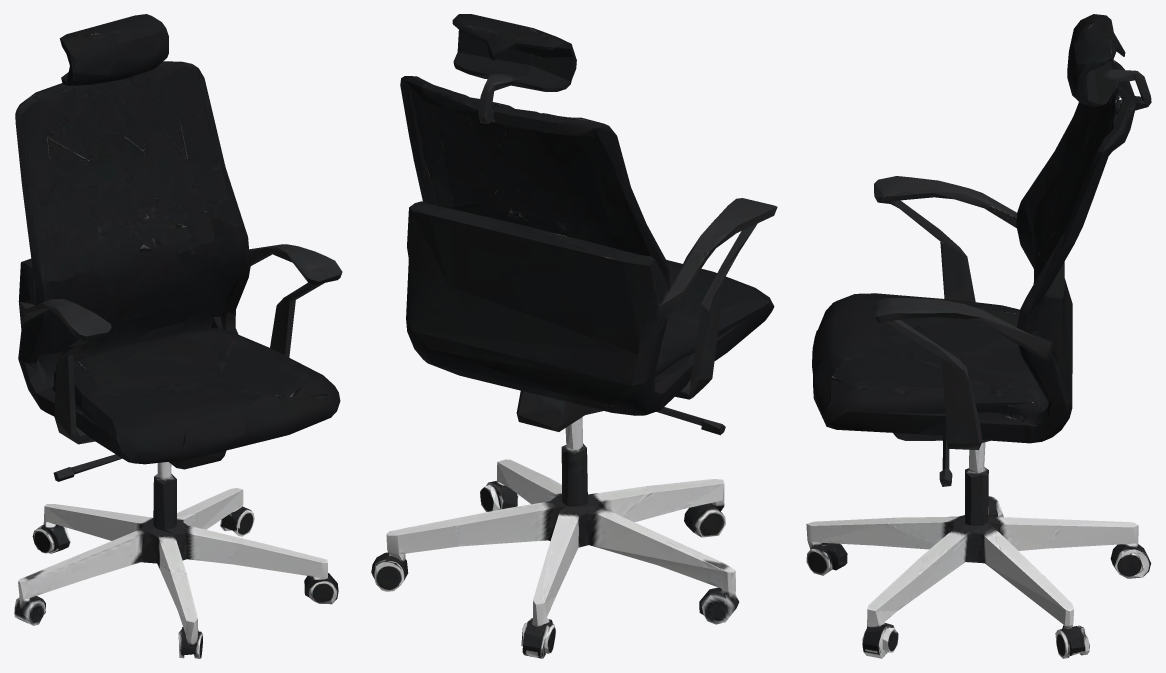
The model's file is kursi-kantor.glb.
3 views of the same model, side by side, from view 1: azimuth 30°, elevation 25°; view 2: azimuth 150°, elevation 25°; view 3: azimuth 270°, elevation 25° (orthographic). The views are drawn at different scales.
Size of the model in its own units: 1.05 by 1.9 by 1.06.
Materials: 1 (1 with a texture image).
